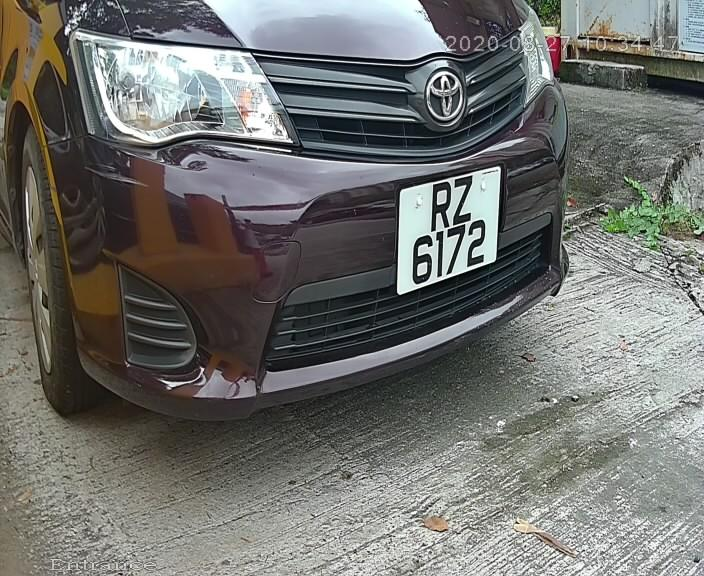Car: (10, 6, 610, 445)
License Plate: (390, 160, 503, 299)
